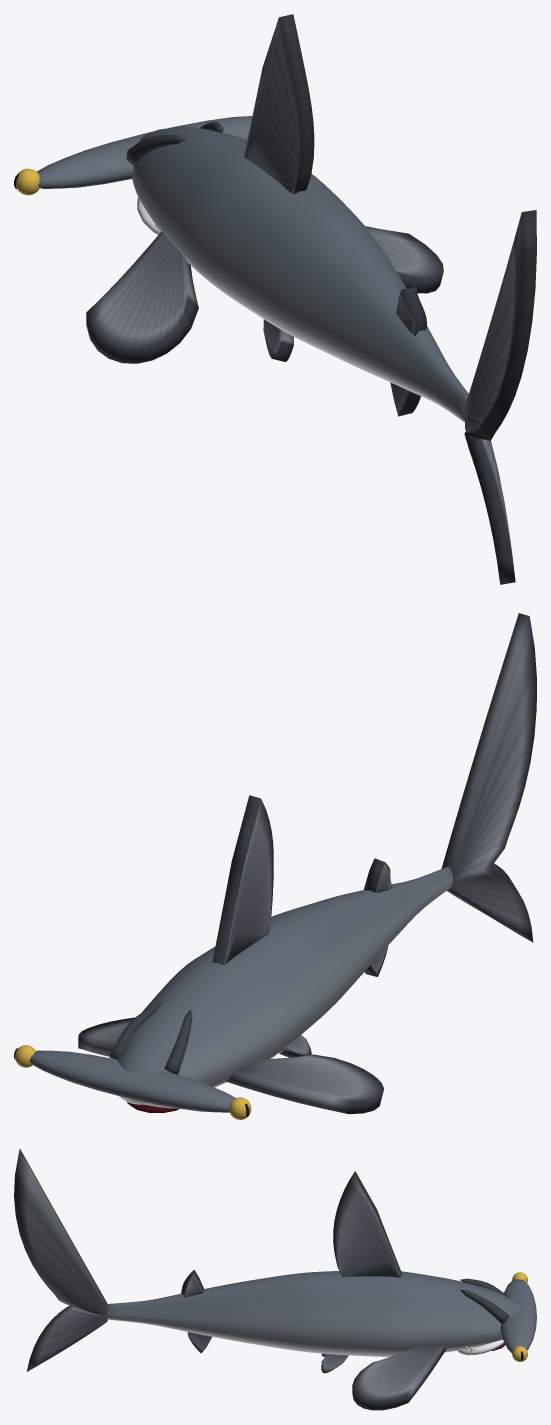
Rendered from HammerheadShark.fbx.
3 renders of one model, top to bottom at view 1: azimuth 30°, elevation 25°; view 2: azimuth 150°, elevation 25°; view 3: azimuth 270°, elevation 25°, orthographic. The views are drawn at different scales.
Visible parts, largest first — view 1: HammerheadShark; view 2: HammerheadShark; view 3: HammerheadShark.
Boxes of the visible parts, x1,y1,x2,y2 form: HammerheadShark: (14, 14, 536, 584); HammerheadShark: (14, 613, 536, 1119); HammerheadShark: (14, 1149, 536, 1410).
Size of the model in its own units: 250 by 264 by 557.
Materials: 1 (1 with a texture image).
